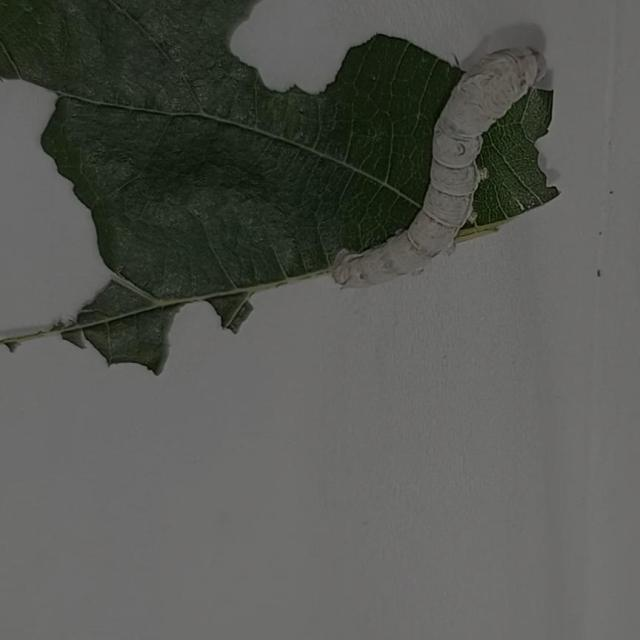Healthy: (306, 31, 579, 312)
